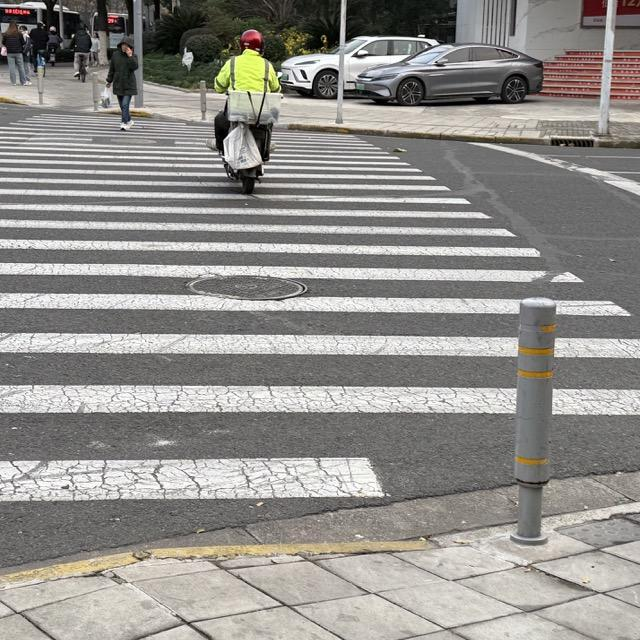curb: (0, 539, 428, 588), (281, 123, 639, 148), (131, 108, 151, 118), (96, 109, 119, 114), (0, 97, 9, 101)
